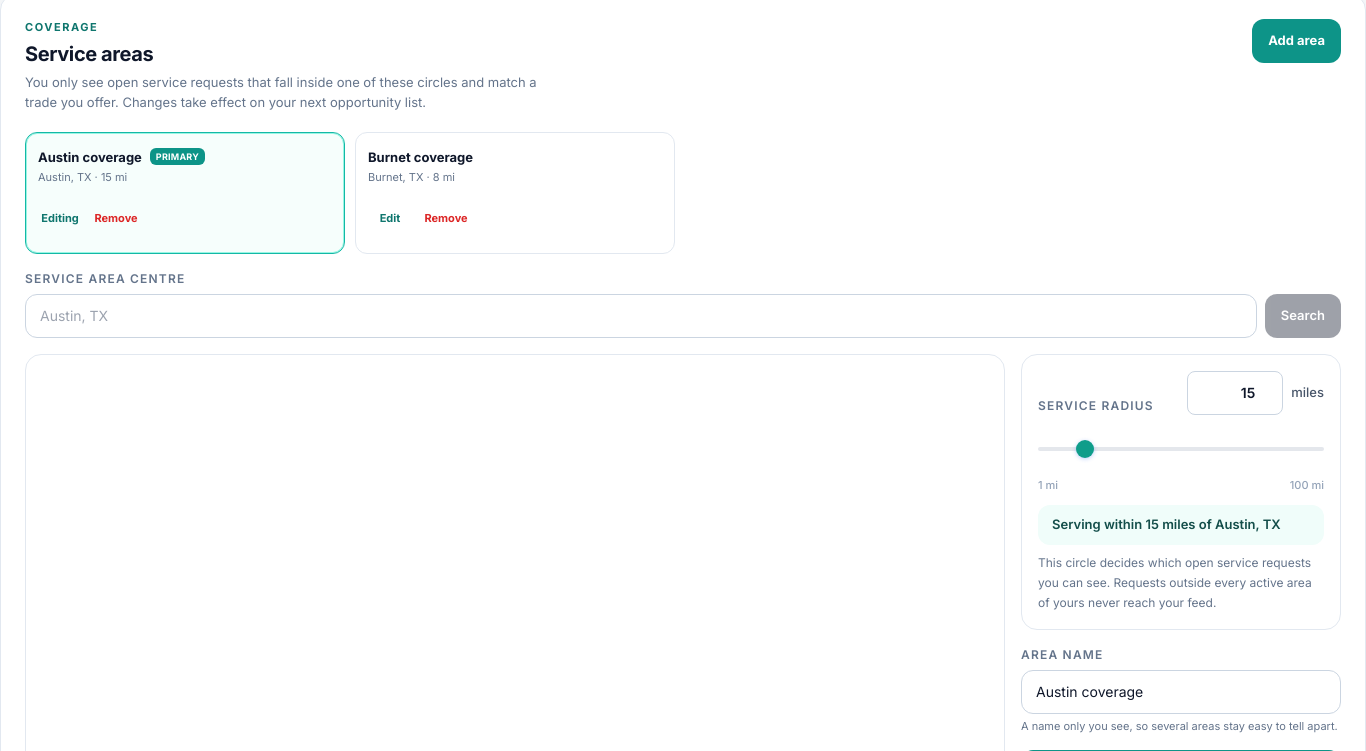
Scenario: coverage editor asynchronous draft ownership › ignores an exact address response after cancelling the draft that requested it
Expected: the button with aria-label "Edit Austin coverage" is shown, [38,144,332,188]
Type "Delayed Dallas address" into the dropdown labelled "Service area centre". click: (641, 316)
box: [25,294,1257,338]
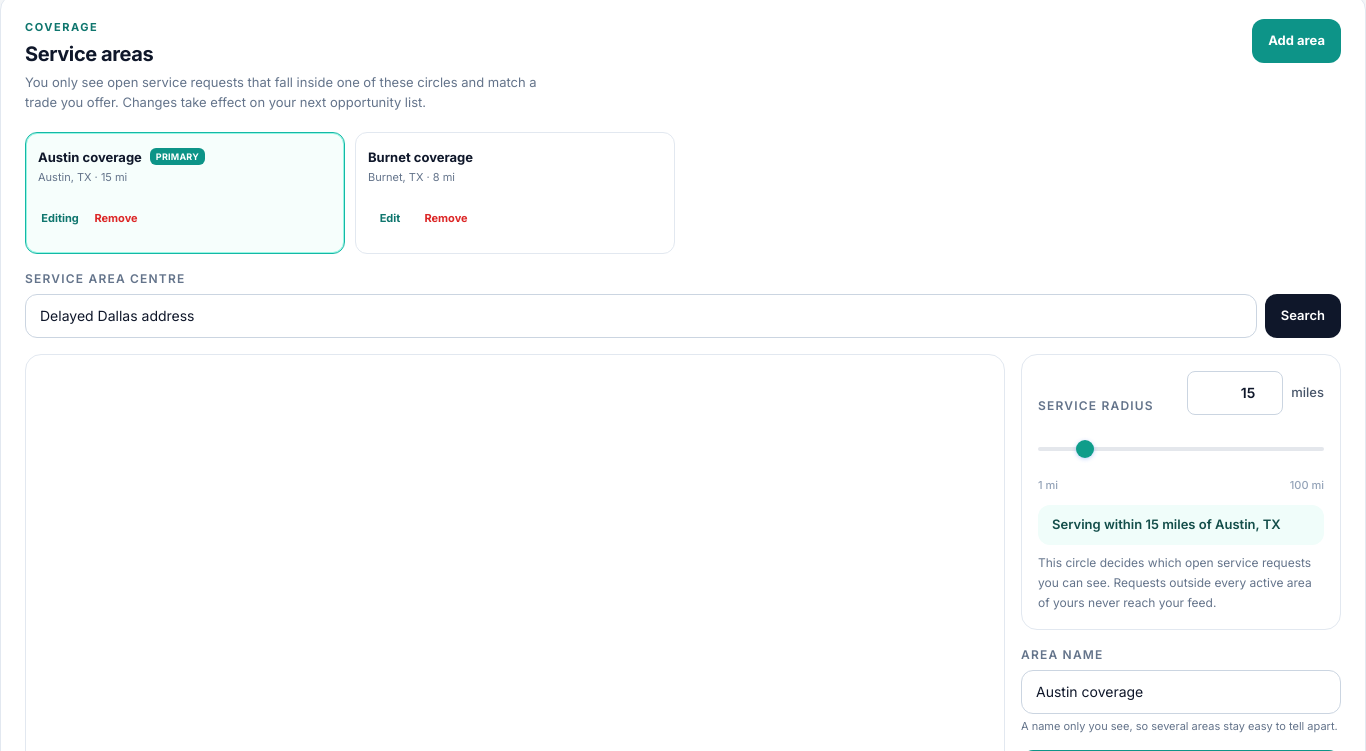
Click the button "Search". click: (1303, 316)
box: [1265,294,1341,338]
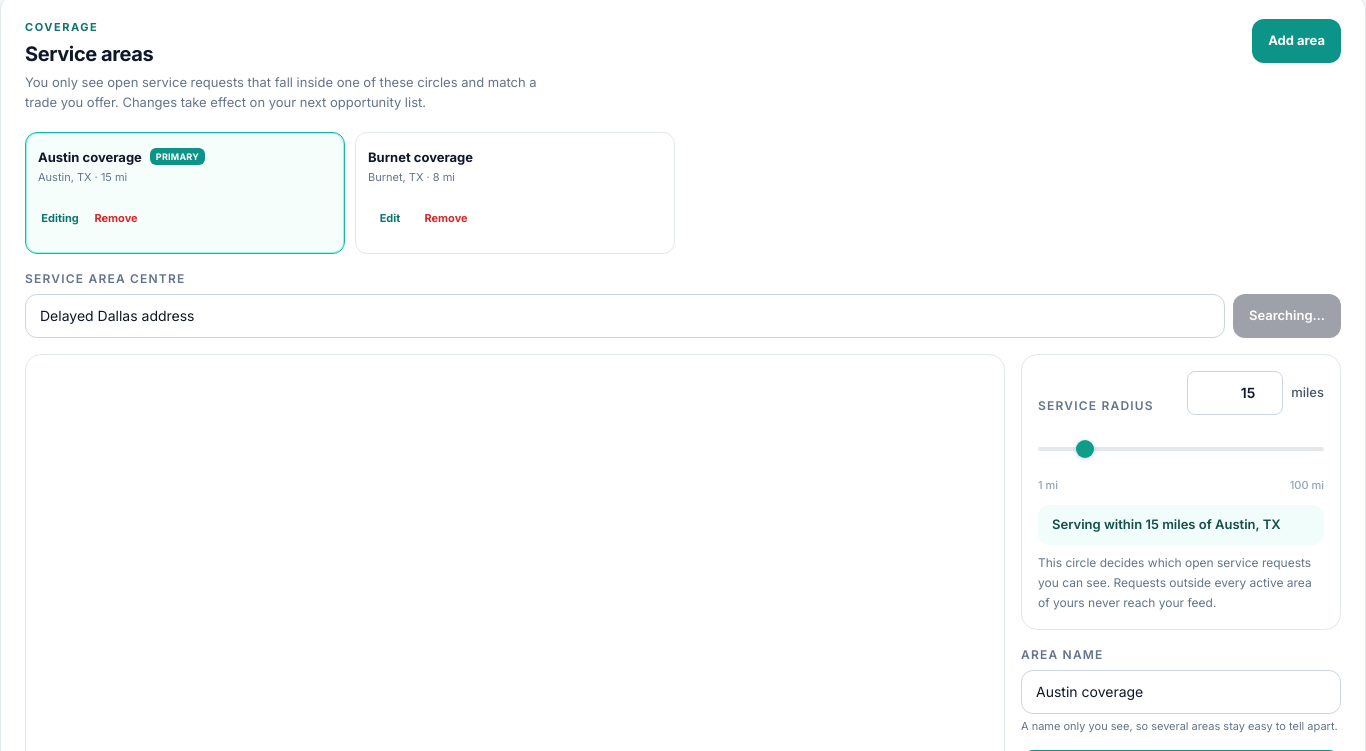
Replace the text in the field labelled "Area name" with "Unsaved name". click: (1181, 692)
box: [1021,670,1341,714]
(page scrolled)
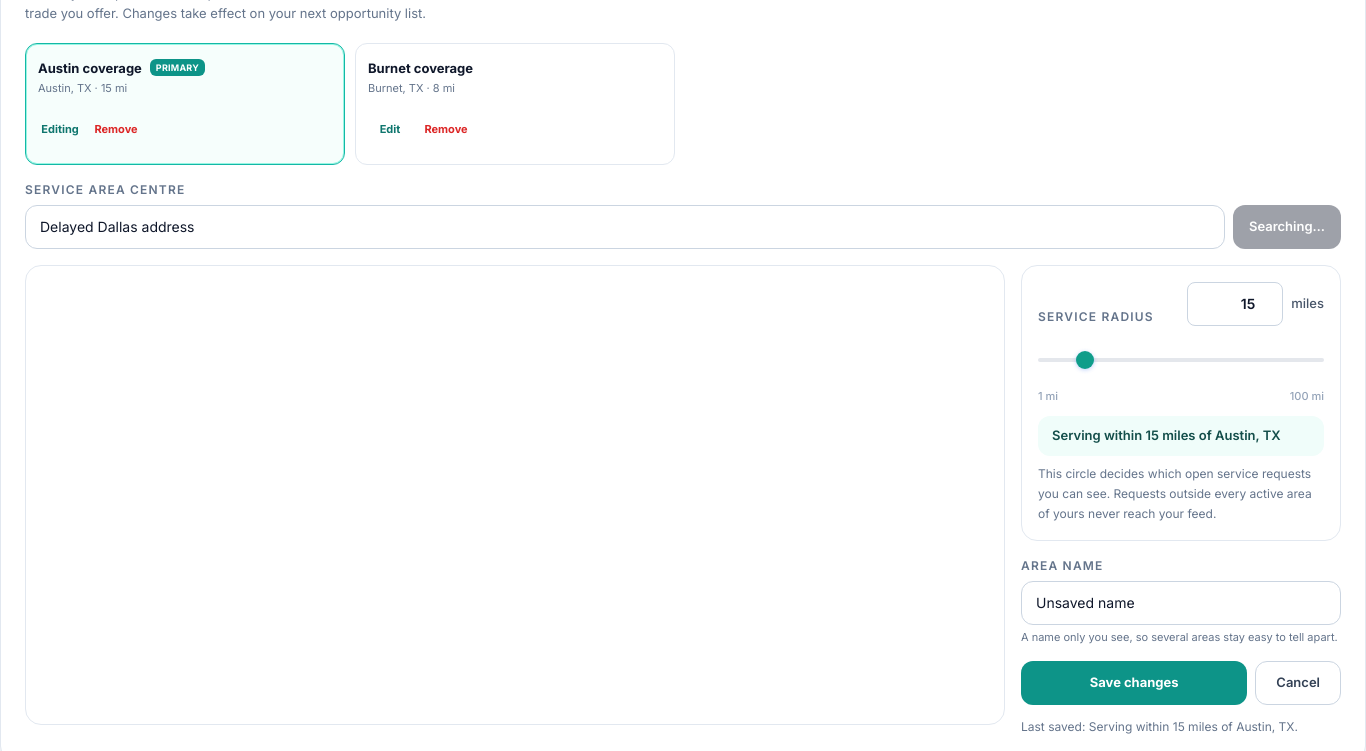
Click the button "Cancel". click: (1298, 683)
box: [1255,661,1341,705]
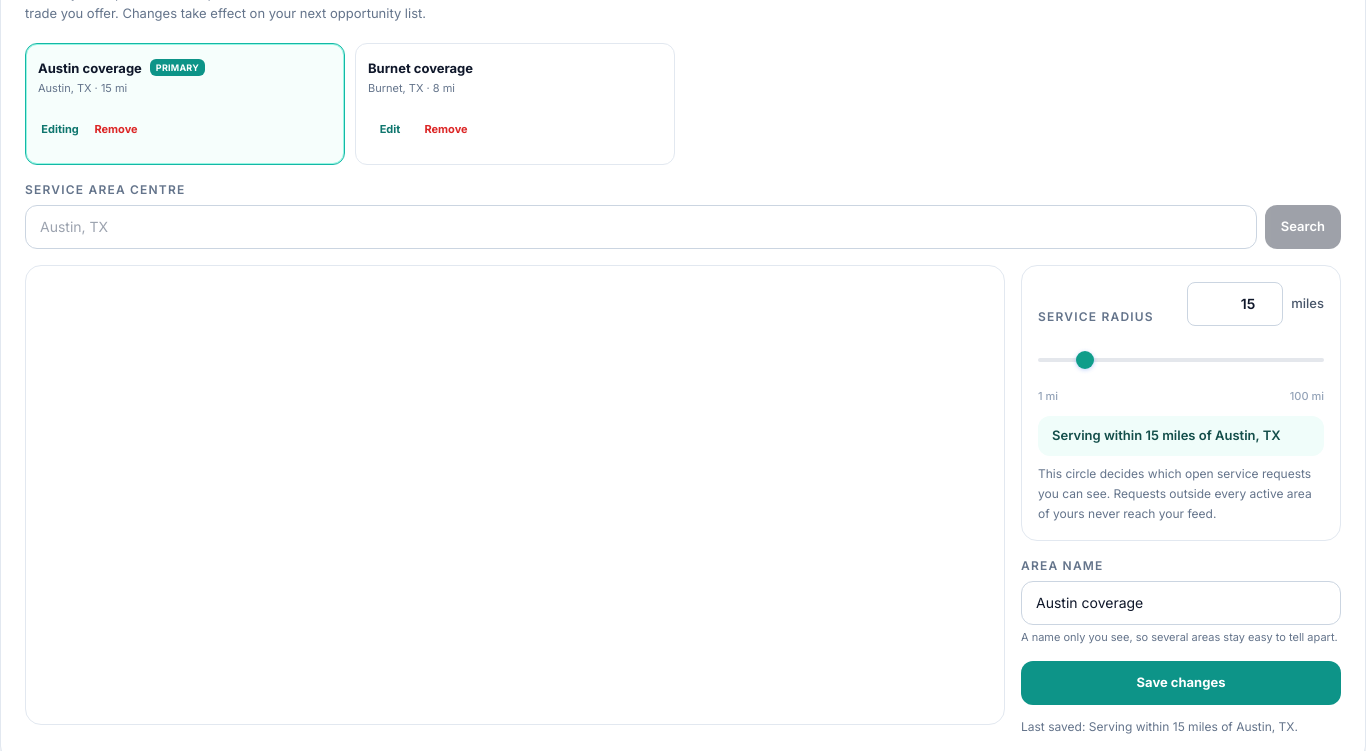
Expected: the field labelled "Area name" holds "Austin coverage", [1021,580,1341,624]
Expected: the button "Cancel" is gone
